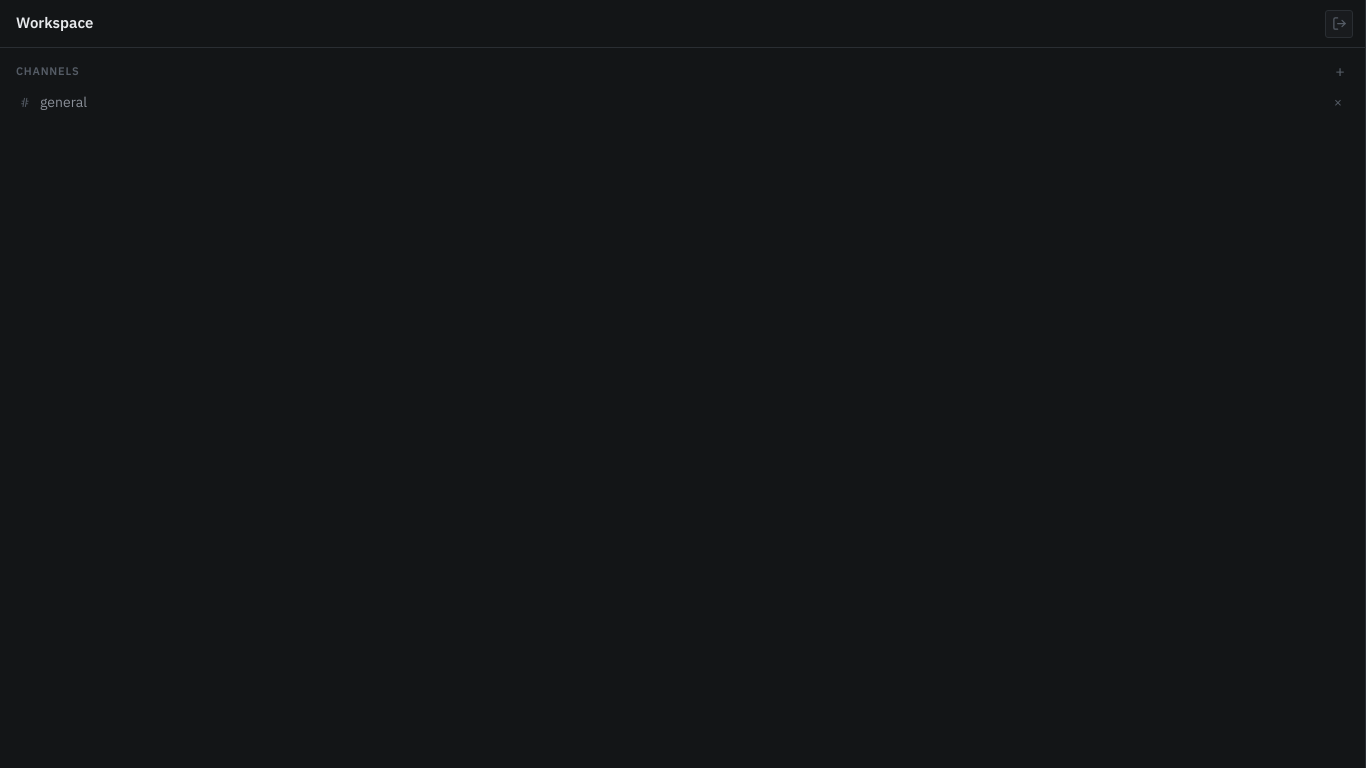
Scenario: ChannelSidebar destructive actions › opens a delete confirmation modal and deletes the selected channel
Click the button with test id "channel-delete-ch-1": (1338, 102) [1334,93,1342,111]
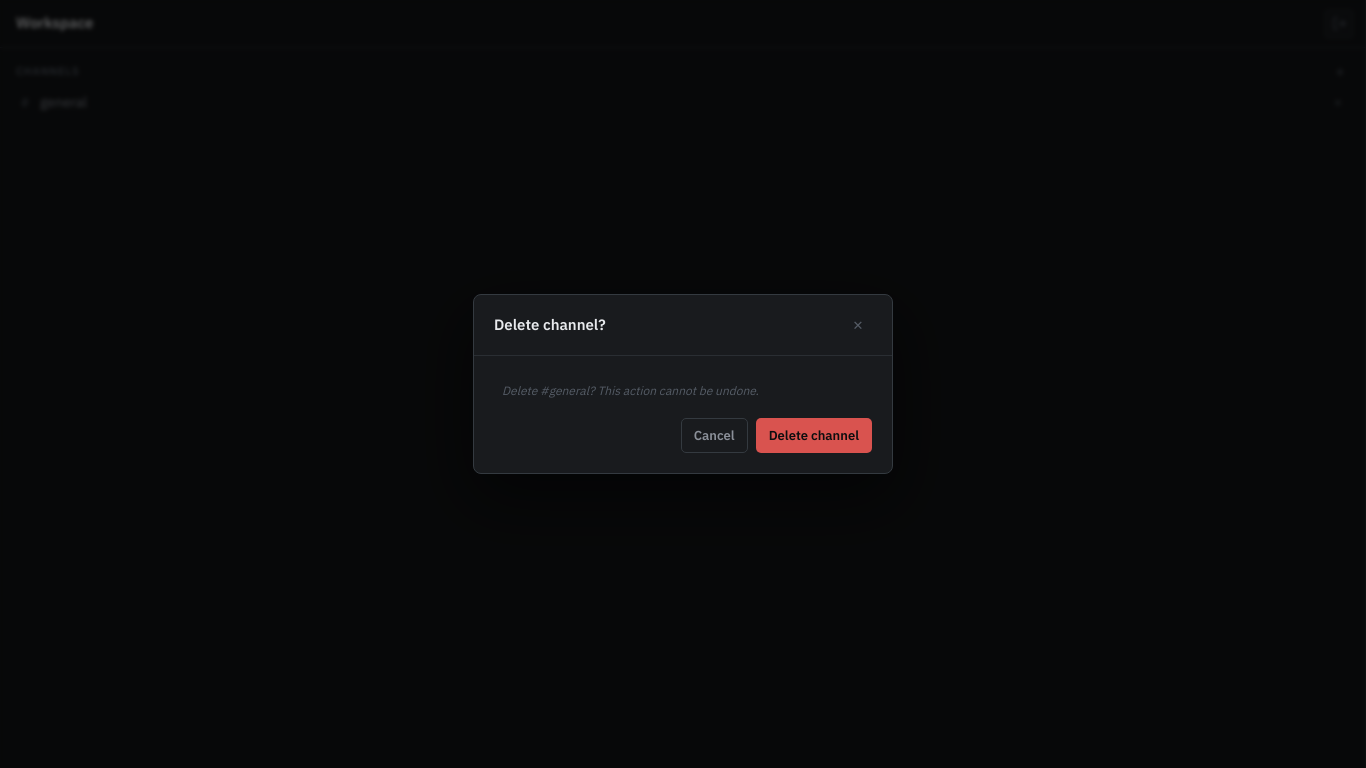
Check: the element with test id "channel-delete-modal" is shown, box [494,376,872,453]
Check: the text "Delete #general? This action cannot be undone." is shown, box [502,383,759,398]
Click the button with test id "channel-delete-confirm": (814, 436) [756,418,872,453]
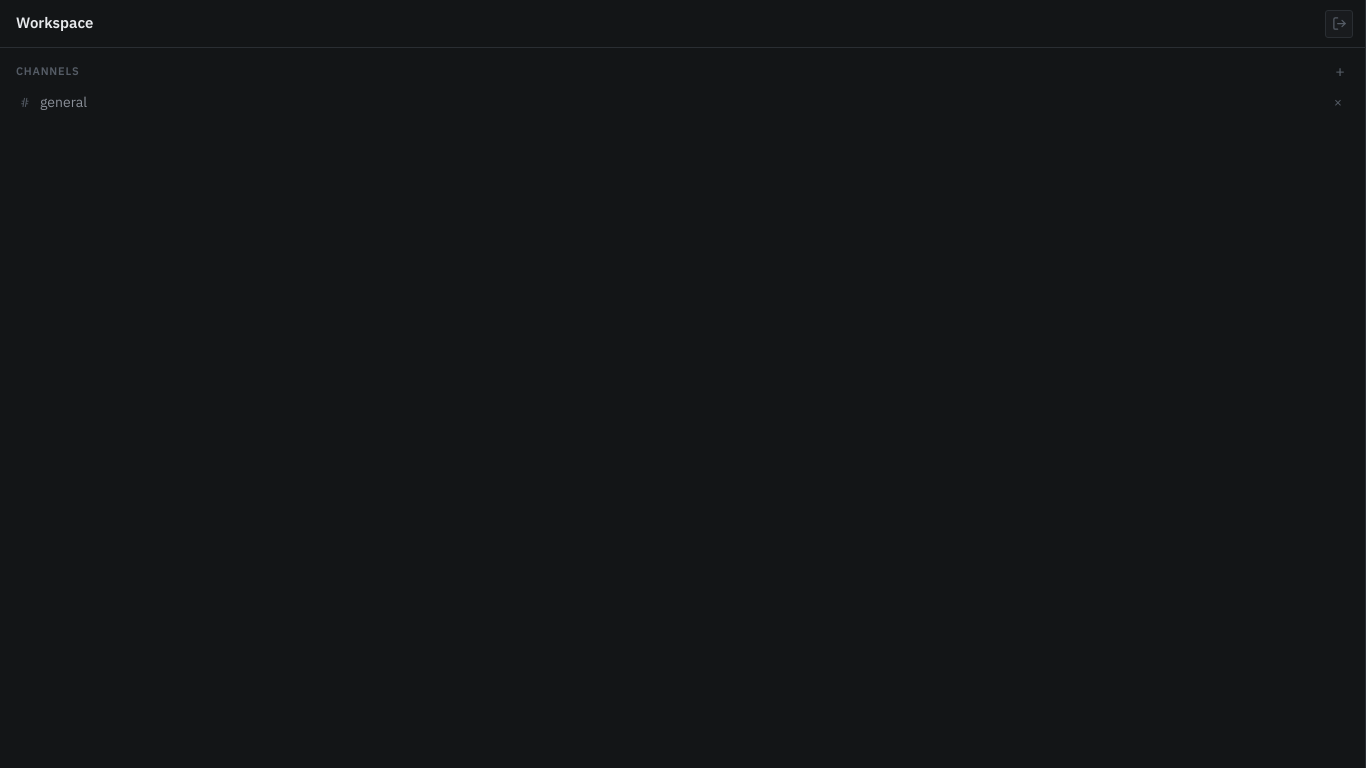
Check: the element with test id "channel-delete-modal" is gone
